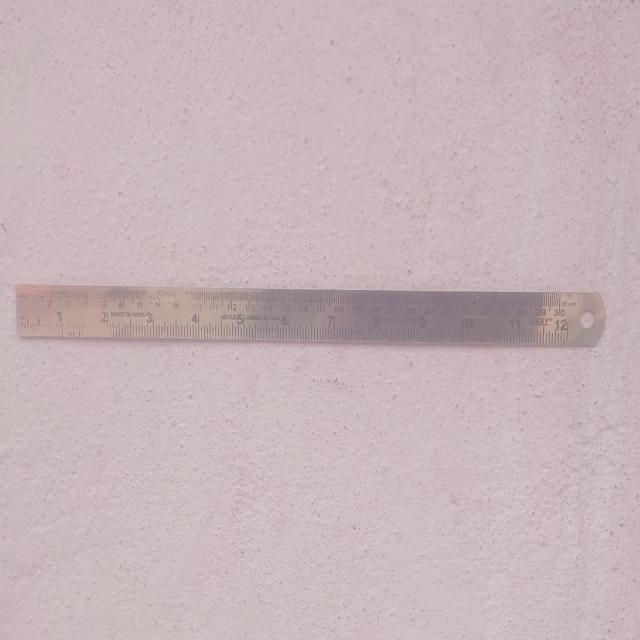scale: (14, 288, 606, 347)
